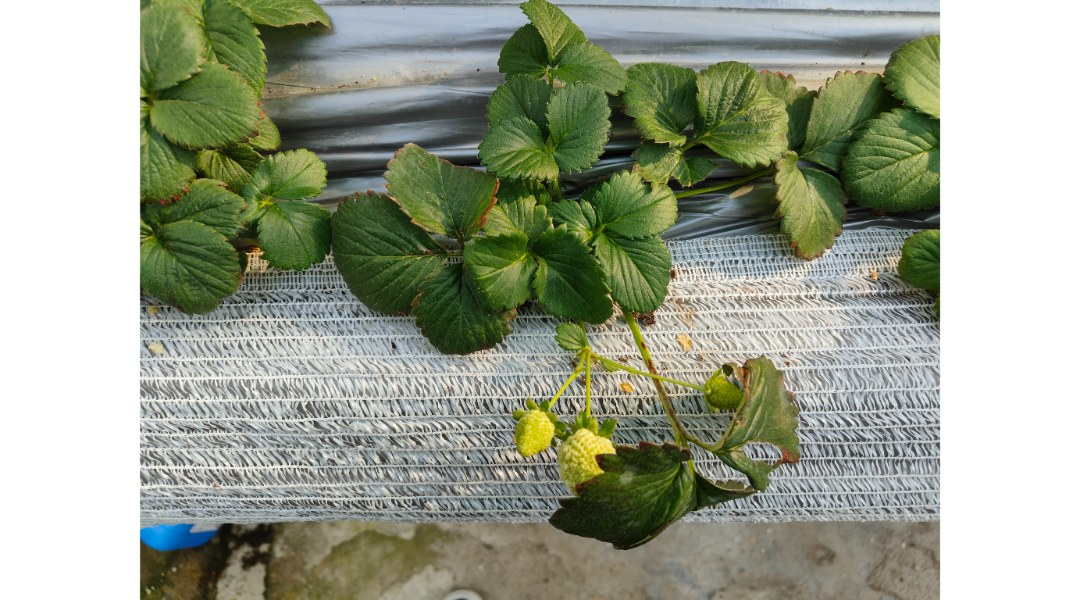berry: (564, 410, 631, 497), (499, 390, 564, 470)
strain: (623, 323, 688, 434), (549, 353, 581, 409), (584, 361, 594, 415)
